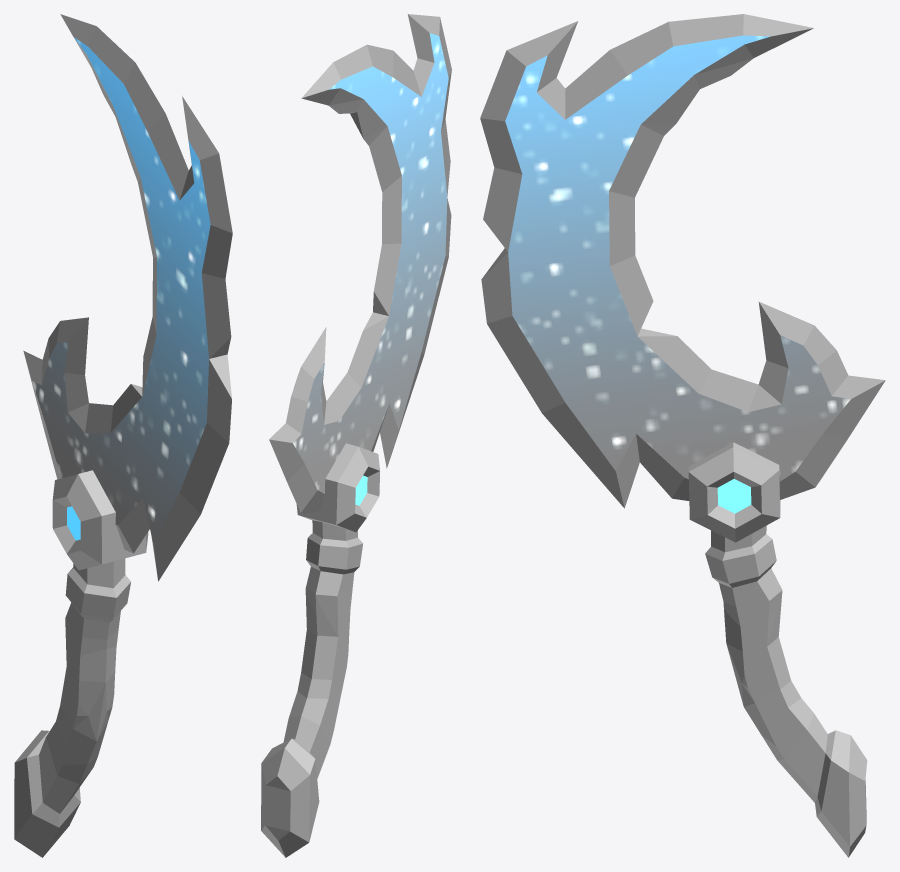
File: SM_Wep_Dagger_09.fbx
3 views of the same model, side by side, from view 1: azimuth 30°, elevation 25°; view 2: azimuth 150°, elevation 25°; view 3: azimuth 270°, elevation 25° (orthographic). The views are drawn at different scales.
Visible parts, largest first — view 1: SM_Wep_Dagger_09; view 2: SM_Wep_Dagger_09; view 3: SM_Wep_Dagger_09.
Boxes of the visible parts, left/top/right/bottom form: SM_Wep_Dagger_09: left=14, top=14, right=232, bottom=857; SM_Wep_Dagger_09: left=261, top=14, right=451, bottom=857; SM_Wep_Dagger_09: left=480, top=14, right=885, bottom=857.
Size of the model in its own units: 6 by 72.75 by 31.7.
